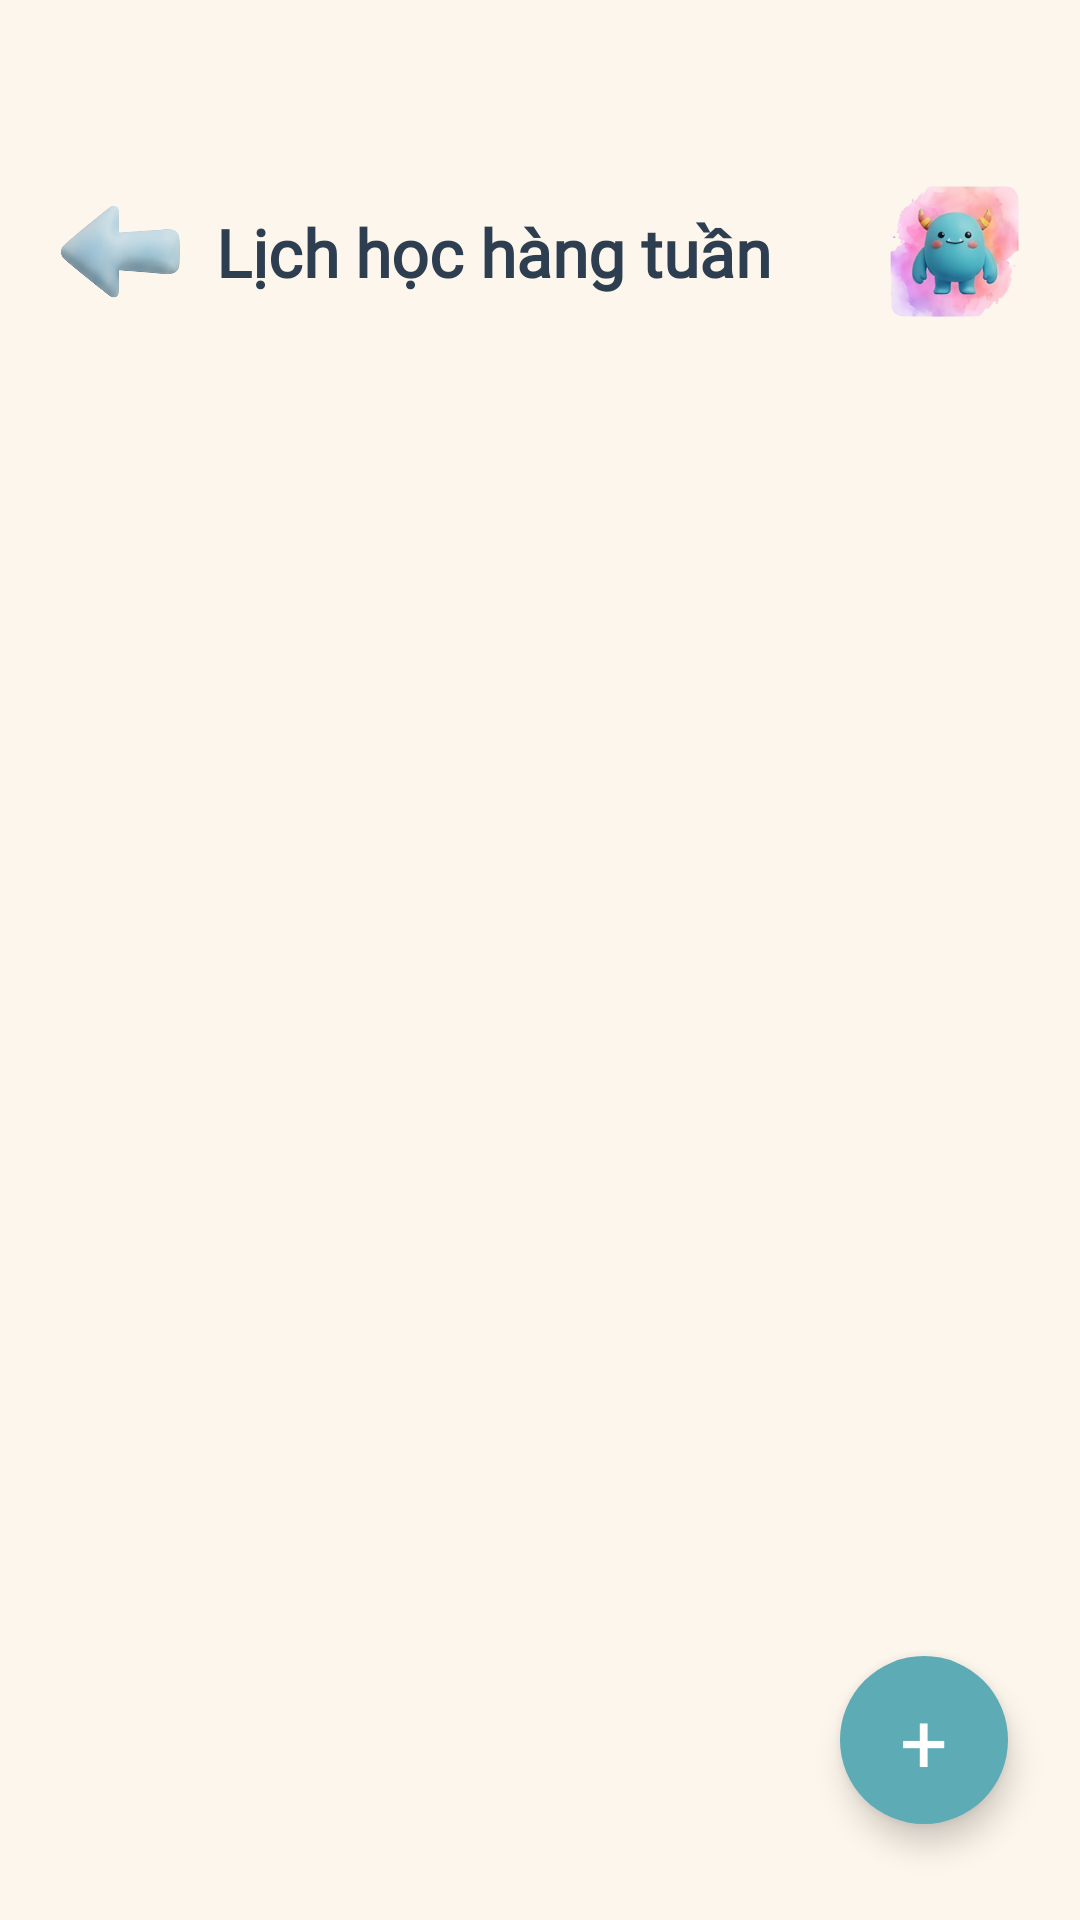

Icons on this 1080 x 1920 Android screen, each with the point to tap as (x,y):
back: (120,252)
